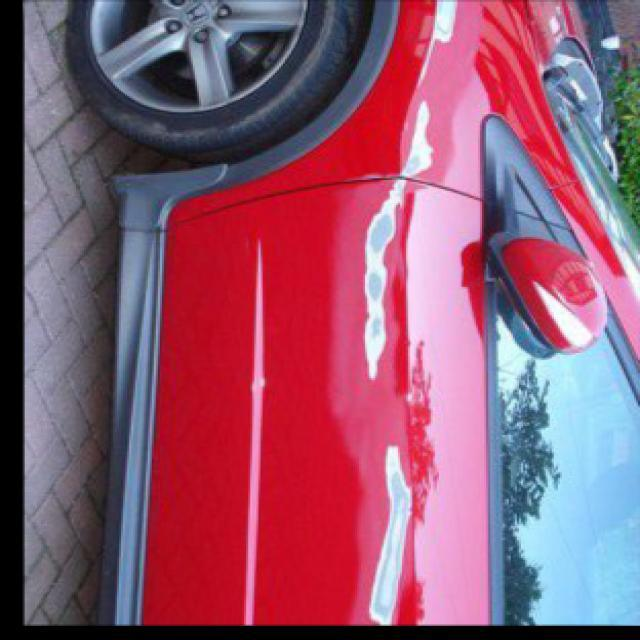scratch: (352, 109, 446, 398), (361, 422, 427, 624), (384, 0, 469, 89)
